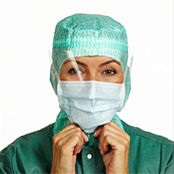face_mask: (56, 40, 124, 125)
